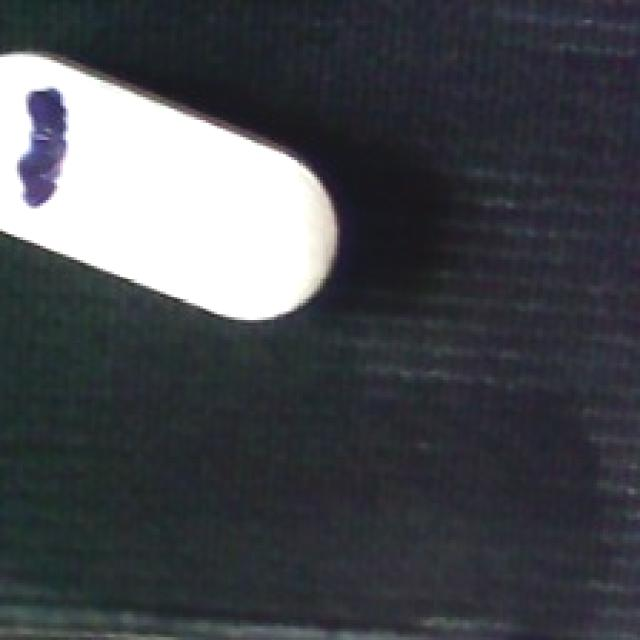defected: (0, 43, 349, 329)
